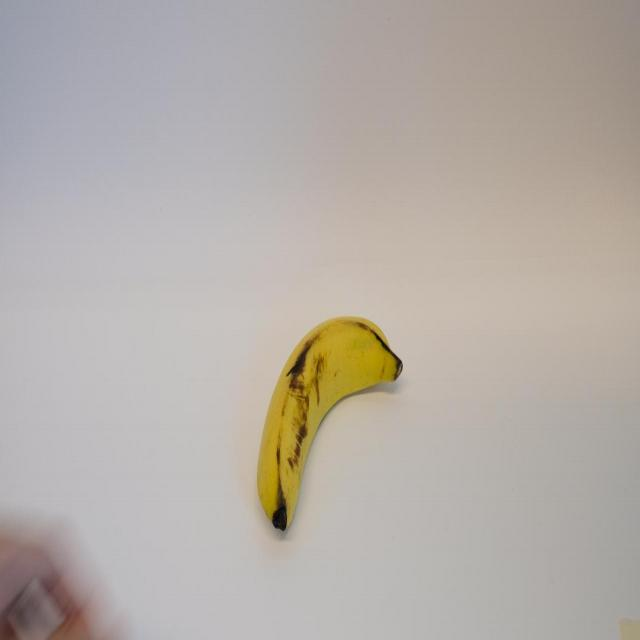banana: (254, 310, 404, 536)
